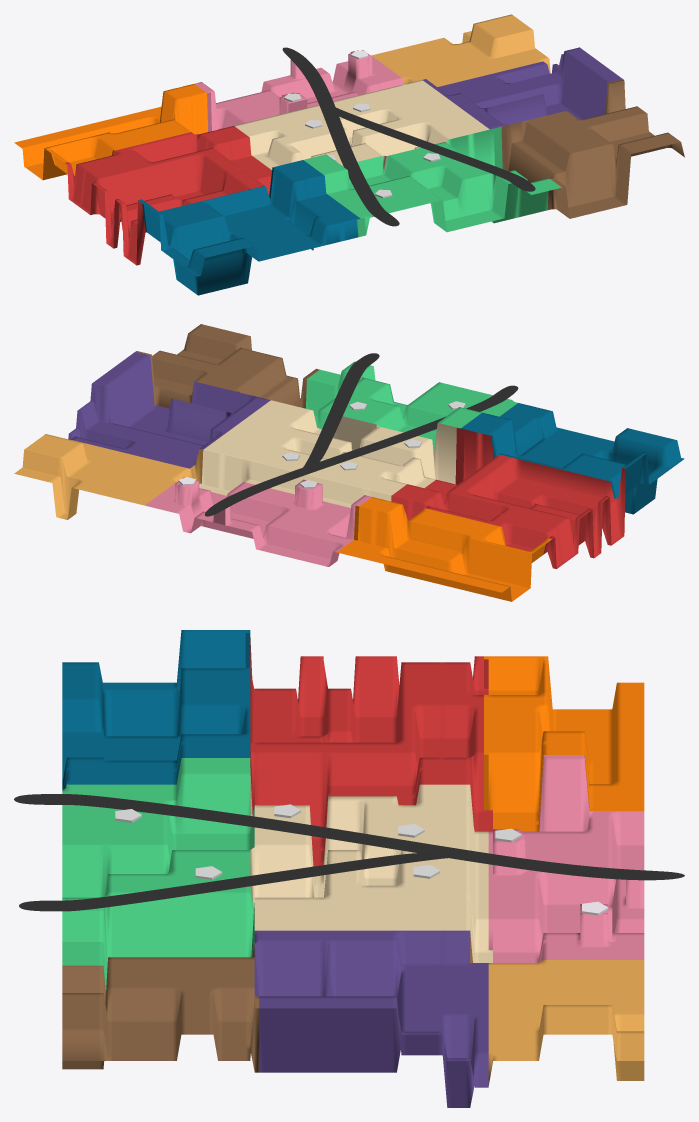
File: map888.fbx
3 renders of one model, top to bottom at view 1: azimuth 30°, elevation 25°; view 2: azimuth 150°, elevation 25°; view 3: azimuth 270°, elevation 25°, orthographic. The views are drawn at different scales.
Parts seen in each view (by area): view 1: zemin.003, zemin.014, zemin.010, zemin.009, zemin.012, zemin.005, zemin.002, zemin, zemin.011, yol; view 2: zemin.014, zemin.012, zemin.002, zemin.005, zemin.003, zemin.011, zemin.009, zemin, zemin.010, yol; view 3: zemin.005, zemin.014, zemin.010, zemin.012, zemin.011, zemin.003, zemin.009, zemin.002, zemin, yol.
Part boxes in pixels (<box>): zemin.003: <box>138,160,360,295</box>; zemin.014: <box>65,126,271,265</box>; zemin.010: <box>304,126,561,237</box>; zemin.009: <box>501,79,684,218</box>; zemin.012: <box>234,80,489,172</box>; zemin.005: <box>423,47,622,129</box>; zemin.002: <box>14,84,207,180</box>; zemin: <box>371,14,550,86</box>; zemin.011: <box>194,50,403,131</box>; yol: <box>282,47,535,226</box>; zemin.014: <box>391,427,625,568</box>; zemin.012: <box>199,400,456,507</box>; zemin.002: <box>337,497,551,601</box>; zemin.005: <box>68,352,270,468</box>; zemin.003: <box>461,403,684,514</box>; zemin.011: <box>145,477,371,566</box>; zemin.009: <box>135,324,319,408</box>; zemin: <box>14,434,203,519</box>; zemin.010: <box>306,361,517,454</box>; yol: <box>205,353,518,516</box>; zemin.005: <box>254,930,488,1107</box>; zemin.014: <box>250,637,492,866</box>; zemin.010: <box>62,758,254,992</box>; zemin.012: <box>250,768,492,962</box>; zemin.011: <box>488,755,644,962</box>; zemin.003: <box>62,630,250,789</box>; zemin.009: <box>62,944,259,1072</box>; zemin.002: <box>484,656,644,831</box>; zemin: <box>470,934,644,1085</box>; yol: <box>14,794,684,911</box>.
Bounding box in the file's own units: 6106 × 794 × 4576.
